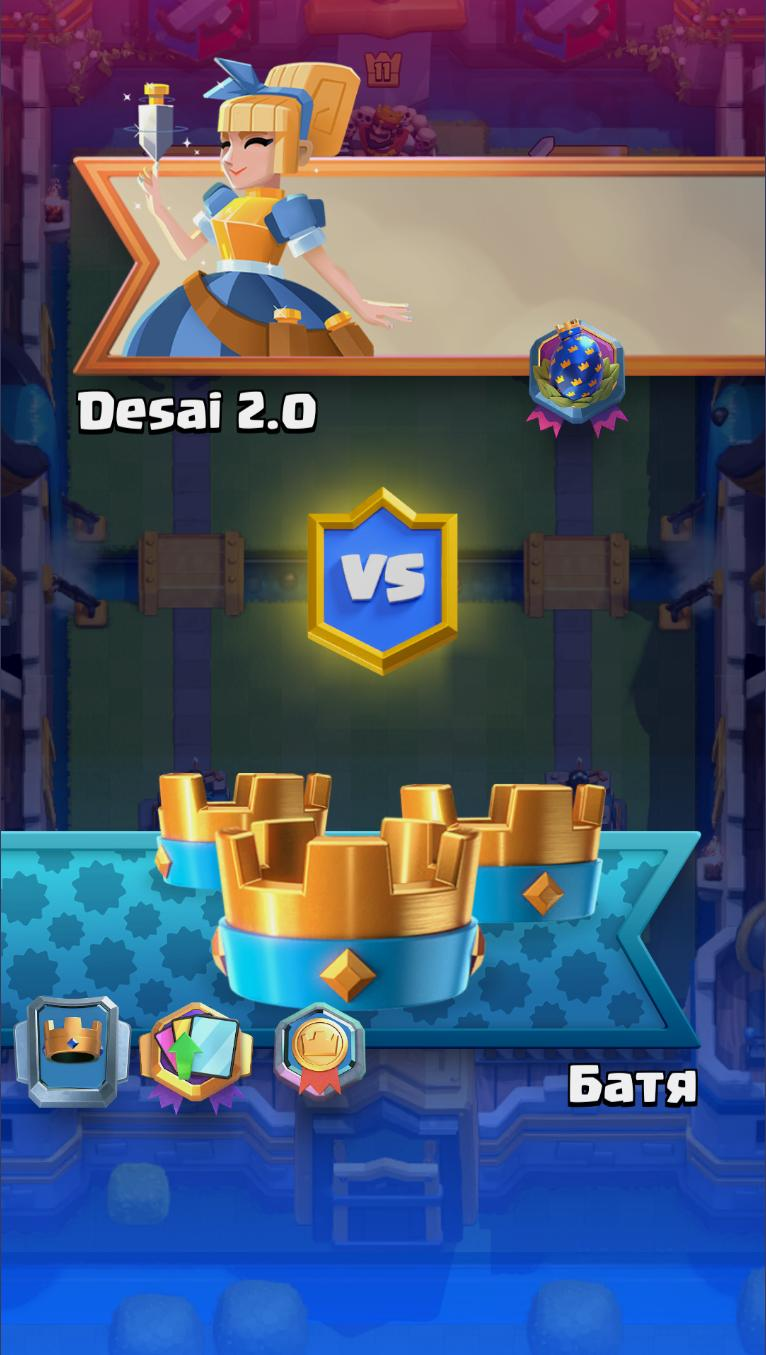GameStart: (4, 770, 702, 1120)
